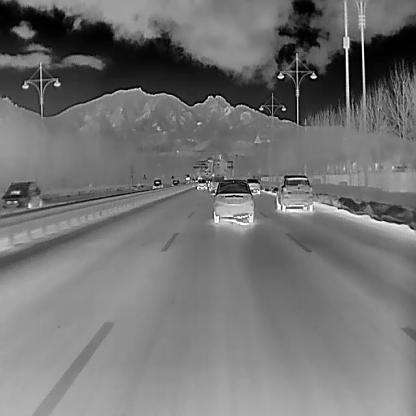car: (212, 178, 253, 223), (275, 174, 313, 210), (0, 180, 42, 210), (209, 176, 223, 194), (245, 177, 259, 193), (196, 179, 206, 190), (152, 179, 162, 189), (170, 179, 180, 186), (204, 169, 207, 173), (208, 169, 210, 173)
truck: (184, 172, 194, 184)
